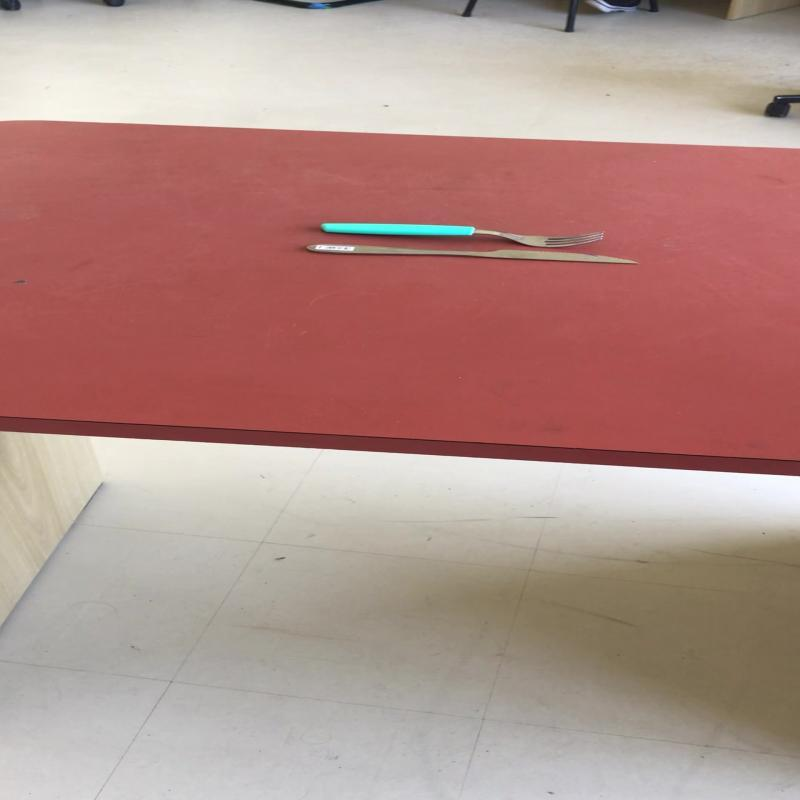fork: (318, 221, 604, 247)
knife: (303, 219, 638, 264), (304, 242, 638, 264)
